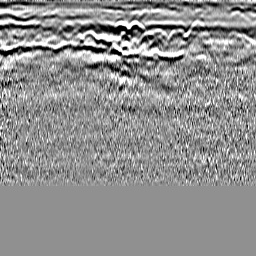cavity: (112, 16, 144, 38)
